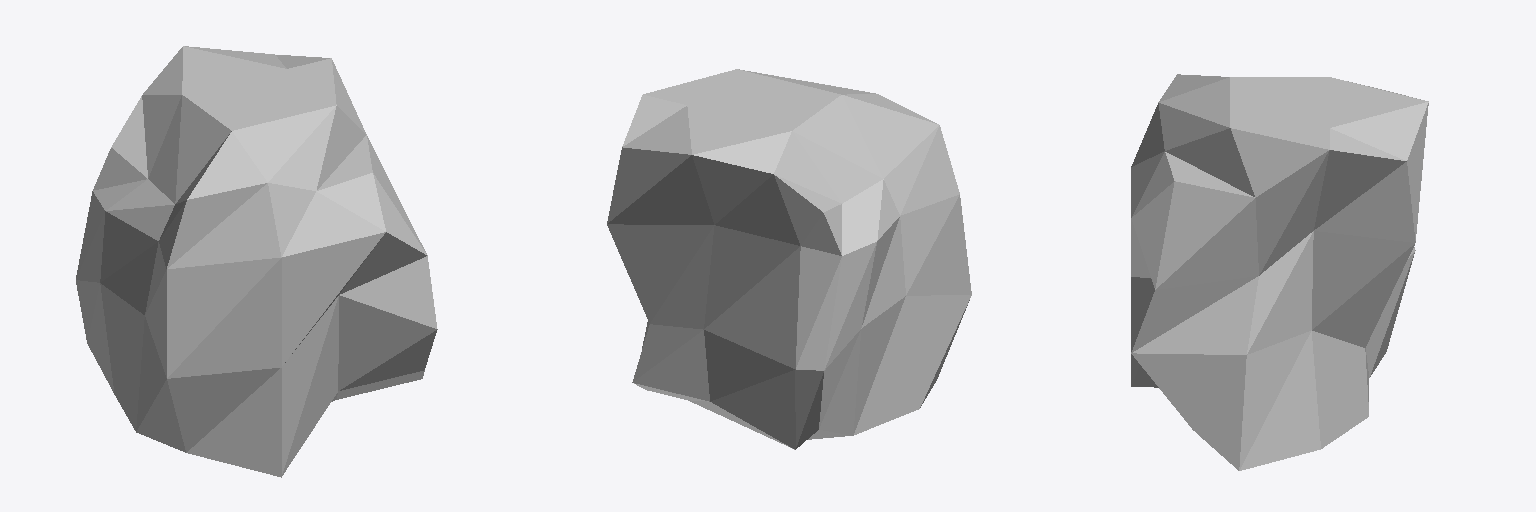
Rendered from asteroid3.obj.
The picture shows the model from 3 angles: view 1: azimuth 30°, elevation 25°; view 2: azimuth 150°, elevation 25°; view 3: azimuth 270°, elevation 25°; orthographic projection.
Parts seen in each view (by area): view 1: pCube1; view 2: pCube1; view 3: pCube1.
Part boxes in pixels (x1,y1,x2,y2): pCube1: (76,46,437,477); pCube1: (607,69,971,449); pCube1: (1131,74,1428,470).
Bounding box in the file's own units: 3.5 × 3.54 × 3.08.